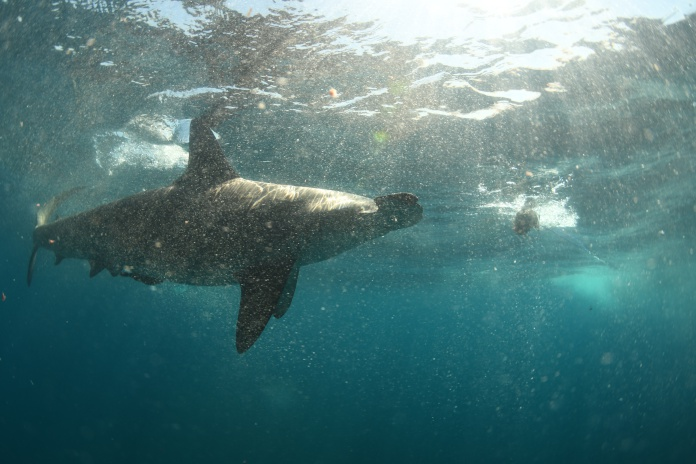Hammer: (1, 116, 427, 379)
